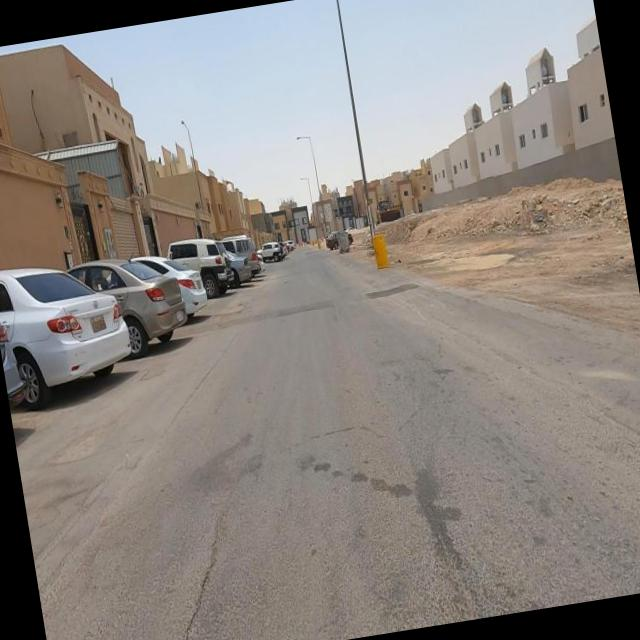debris: (500, 176, 580, 264)
